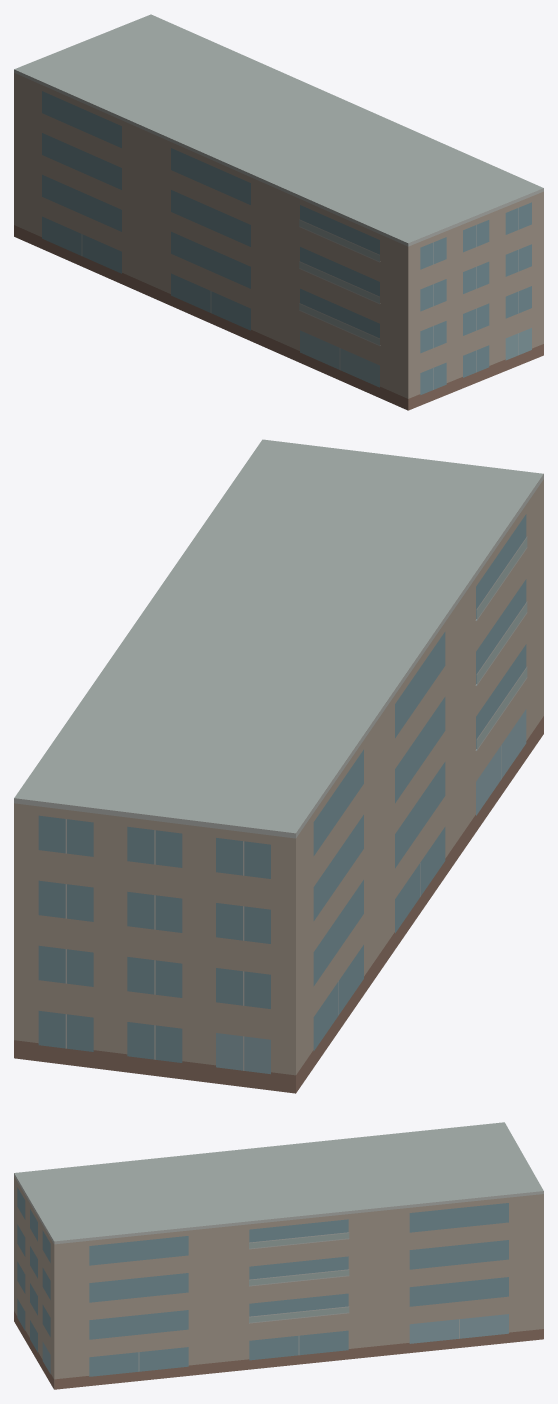
The model's file is survey-upis-32721309.glb.
3 renders of one model, top to bottom at view 1: azimuth 30°, elevation 25°; view 2: azimuth 150°, elevation 25°; view 3: azimuth 270°, elevation 25°, orthographic. The views are drawn at different scales.
Visible parts, largest first — view 1: survey-upis-32721309.tmp; view 2: survey-upis-32721309.tmp; view 3: survey-upis-32721309.tmp.
Part boxes in pixels (box(x1,y1,x2,y2)): survey-upis-32721309.tmp: box(14, 14, 543, 410); survey-upis-32721309.tmp: box(14, 439, 543, 1093); survey-upis-32721309.tmp: box(14, 1122, 543, 1389).
Bounding box in the file's own units: 21.05 × 12.2 × 39.52.
